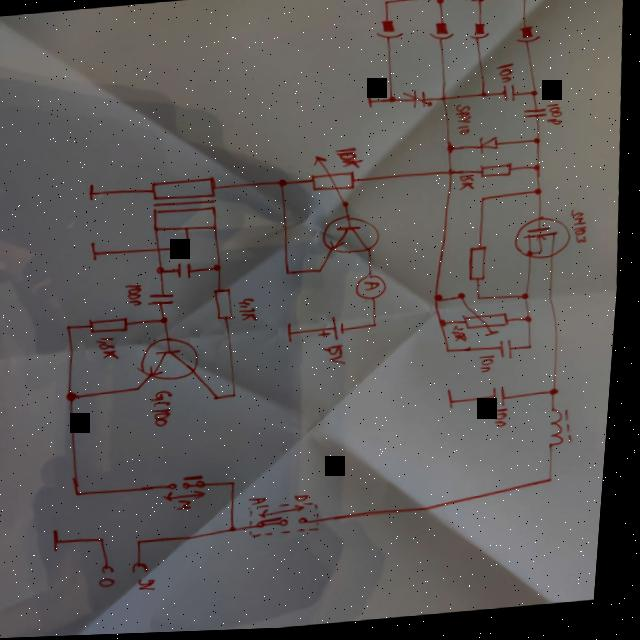capacitor: (402, 89, 437, 117), (151, 290, 181, 310), (494, 388, 516, 411), (501, 342, 521, 363), (179, 261, 199, 281), (523, 110, 551, 123), (502, 87, 521, 106)
crossover: (449, 172, 458, 180), (158, 248, 166, 254), (441, 99, 449, 105)
diode: (479, 138, 503, 157)
ground: (288, 324, 302, 346), (92, 241, 106, 262), (451, 392, 465, 413), (59, 529, 70, 553), (88, 183, 100, 202), (366, 92, 376, 111)
inductor: (548, 407, 585, 454), (437, 0, 477, 7), (412, 0, 440, 7)
junction: (70, 391, 86, 402), (279, 179, 293, 190), (442, 321, 454, 333), (448, 145, 460, 157), (551, 479, 564, 489), (437, 296, 449, 306), (216, 263, 228, 273), (163, 317, 176, 326), (524, 295, 535, 305), (528, 318, 539, 328), (159, 267, 171, 276), (554, 391, 566, 400), (389, 97, 400, 106), (535, 191, 546, 200), (534, 167, 545, 176), (534, 140, 545, 149), (80, 489, 91, 498), (531, 92, 541, 101), (382, 0, 392, 9), (287, 270, 297, 279), (435, 0, 445, 9), (236, 527, 247, 535), (105, 536, 116, 544), (475, 0, 487, 7), (143, 539, 153, 547), (482, 199, 491, 206), (479, 298, 488, 305), (188, 245, 196, 252), (481, 94, 490, 100), (236, 394, 245, 400), (449, 351, 458, 357), (219, 396, 228, 402), (70, 325, 78, 331), (376, 324, 384, 330), (237, 482, 245, 488), (532, 347, 540, 353), (320, 269, 328, 275), (519, 0, 529, 4), (141, 386, 147, 392)
resistor: (306, 153, 362, 214), (459, 290, 518, 344), (214, 289, 242, 323), (469, 249, 495, 285), (91, 316, 137, 336), (481, 165, 516, 182)
source: (320, 318, 351, 345)
switch: (252, 501, 331, 543), (170, 473, 215, 505)
terminal: (139, 562, 158, 576), (108, 564, 124, 576)
text: (154, 390, 184, 430), (570, 212, 595, 250), (335, 147, 368, 173), (455, 106, 477, 140), (100, 336, 126, 363), (240, 297, 264, 326), (325, 346, 354, 369), (129, 283, 151, 309), (546, 105, 567, 130), (498, 65, 518, 88), (460, 176, 480, 195), (498, 411, 516, 432), (455, 328, 474, 347), (484, 358, 502, 378), (145, 578, 167, 593), (181, 501, 201, 513), (106, 578, 125, 590), (256, 498, 277, 508), (300, 495, 319, 506)
transformer: (150, 177, 224, 236)
transistor: (140, 335, 207, 384), (515, 218, 577, 267), (323, 214, 388, 259)
